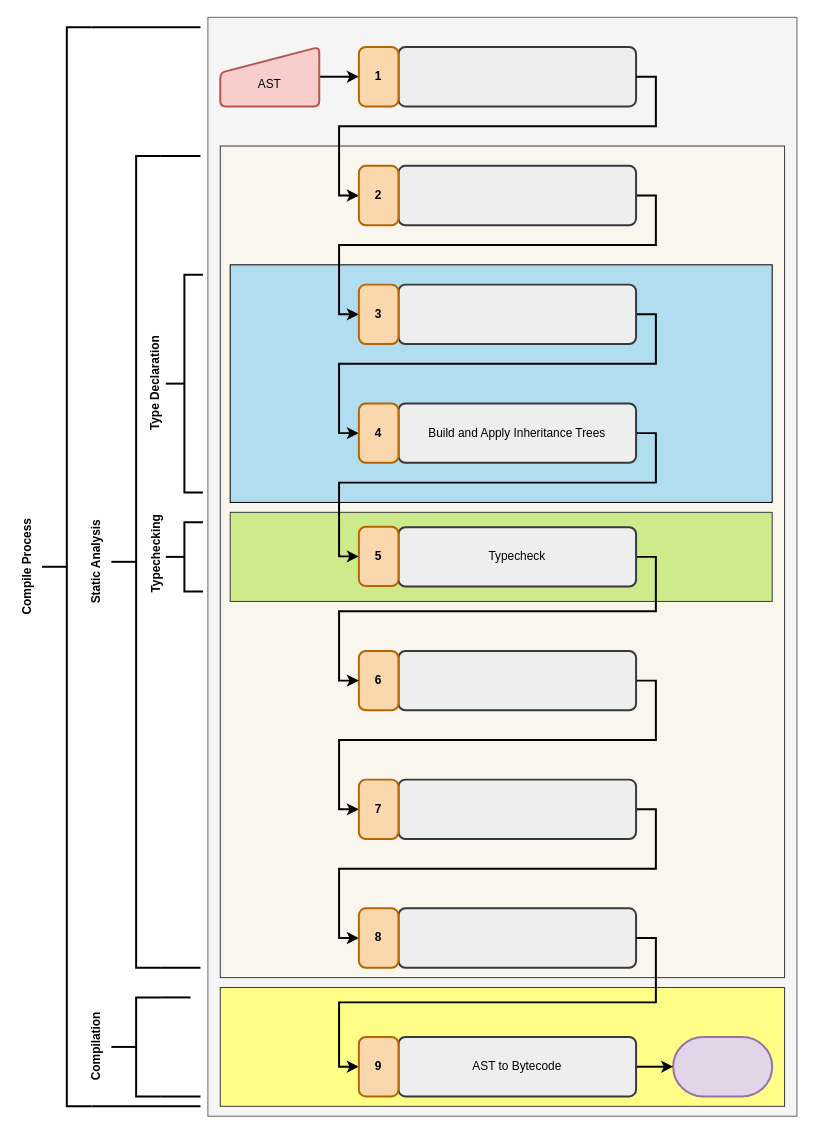
Image size: 814x1134. Some labels were removed from this diagram. Here are the shapes that lost their labels. From the top down, the centre of each, then its label:
point (517, 76): AST Expanding
point (517, 195): Global Scope Extraction
point (517, 314): Register Declarations
point (517, 680): AST Simplification
point (517, 809): Control Path Verification
point (517, 937): Vars Run
point (722, 1066): Å Bytecode
